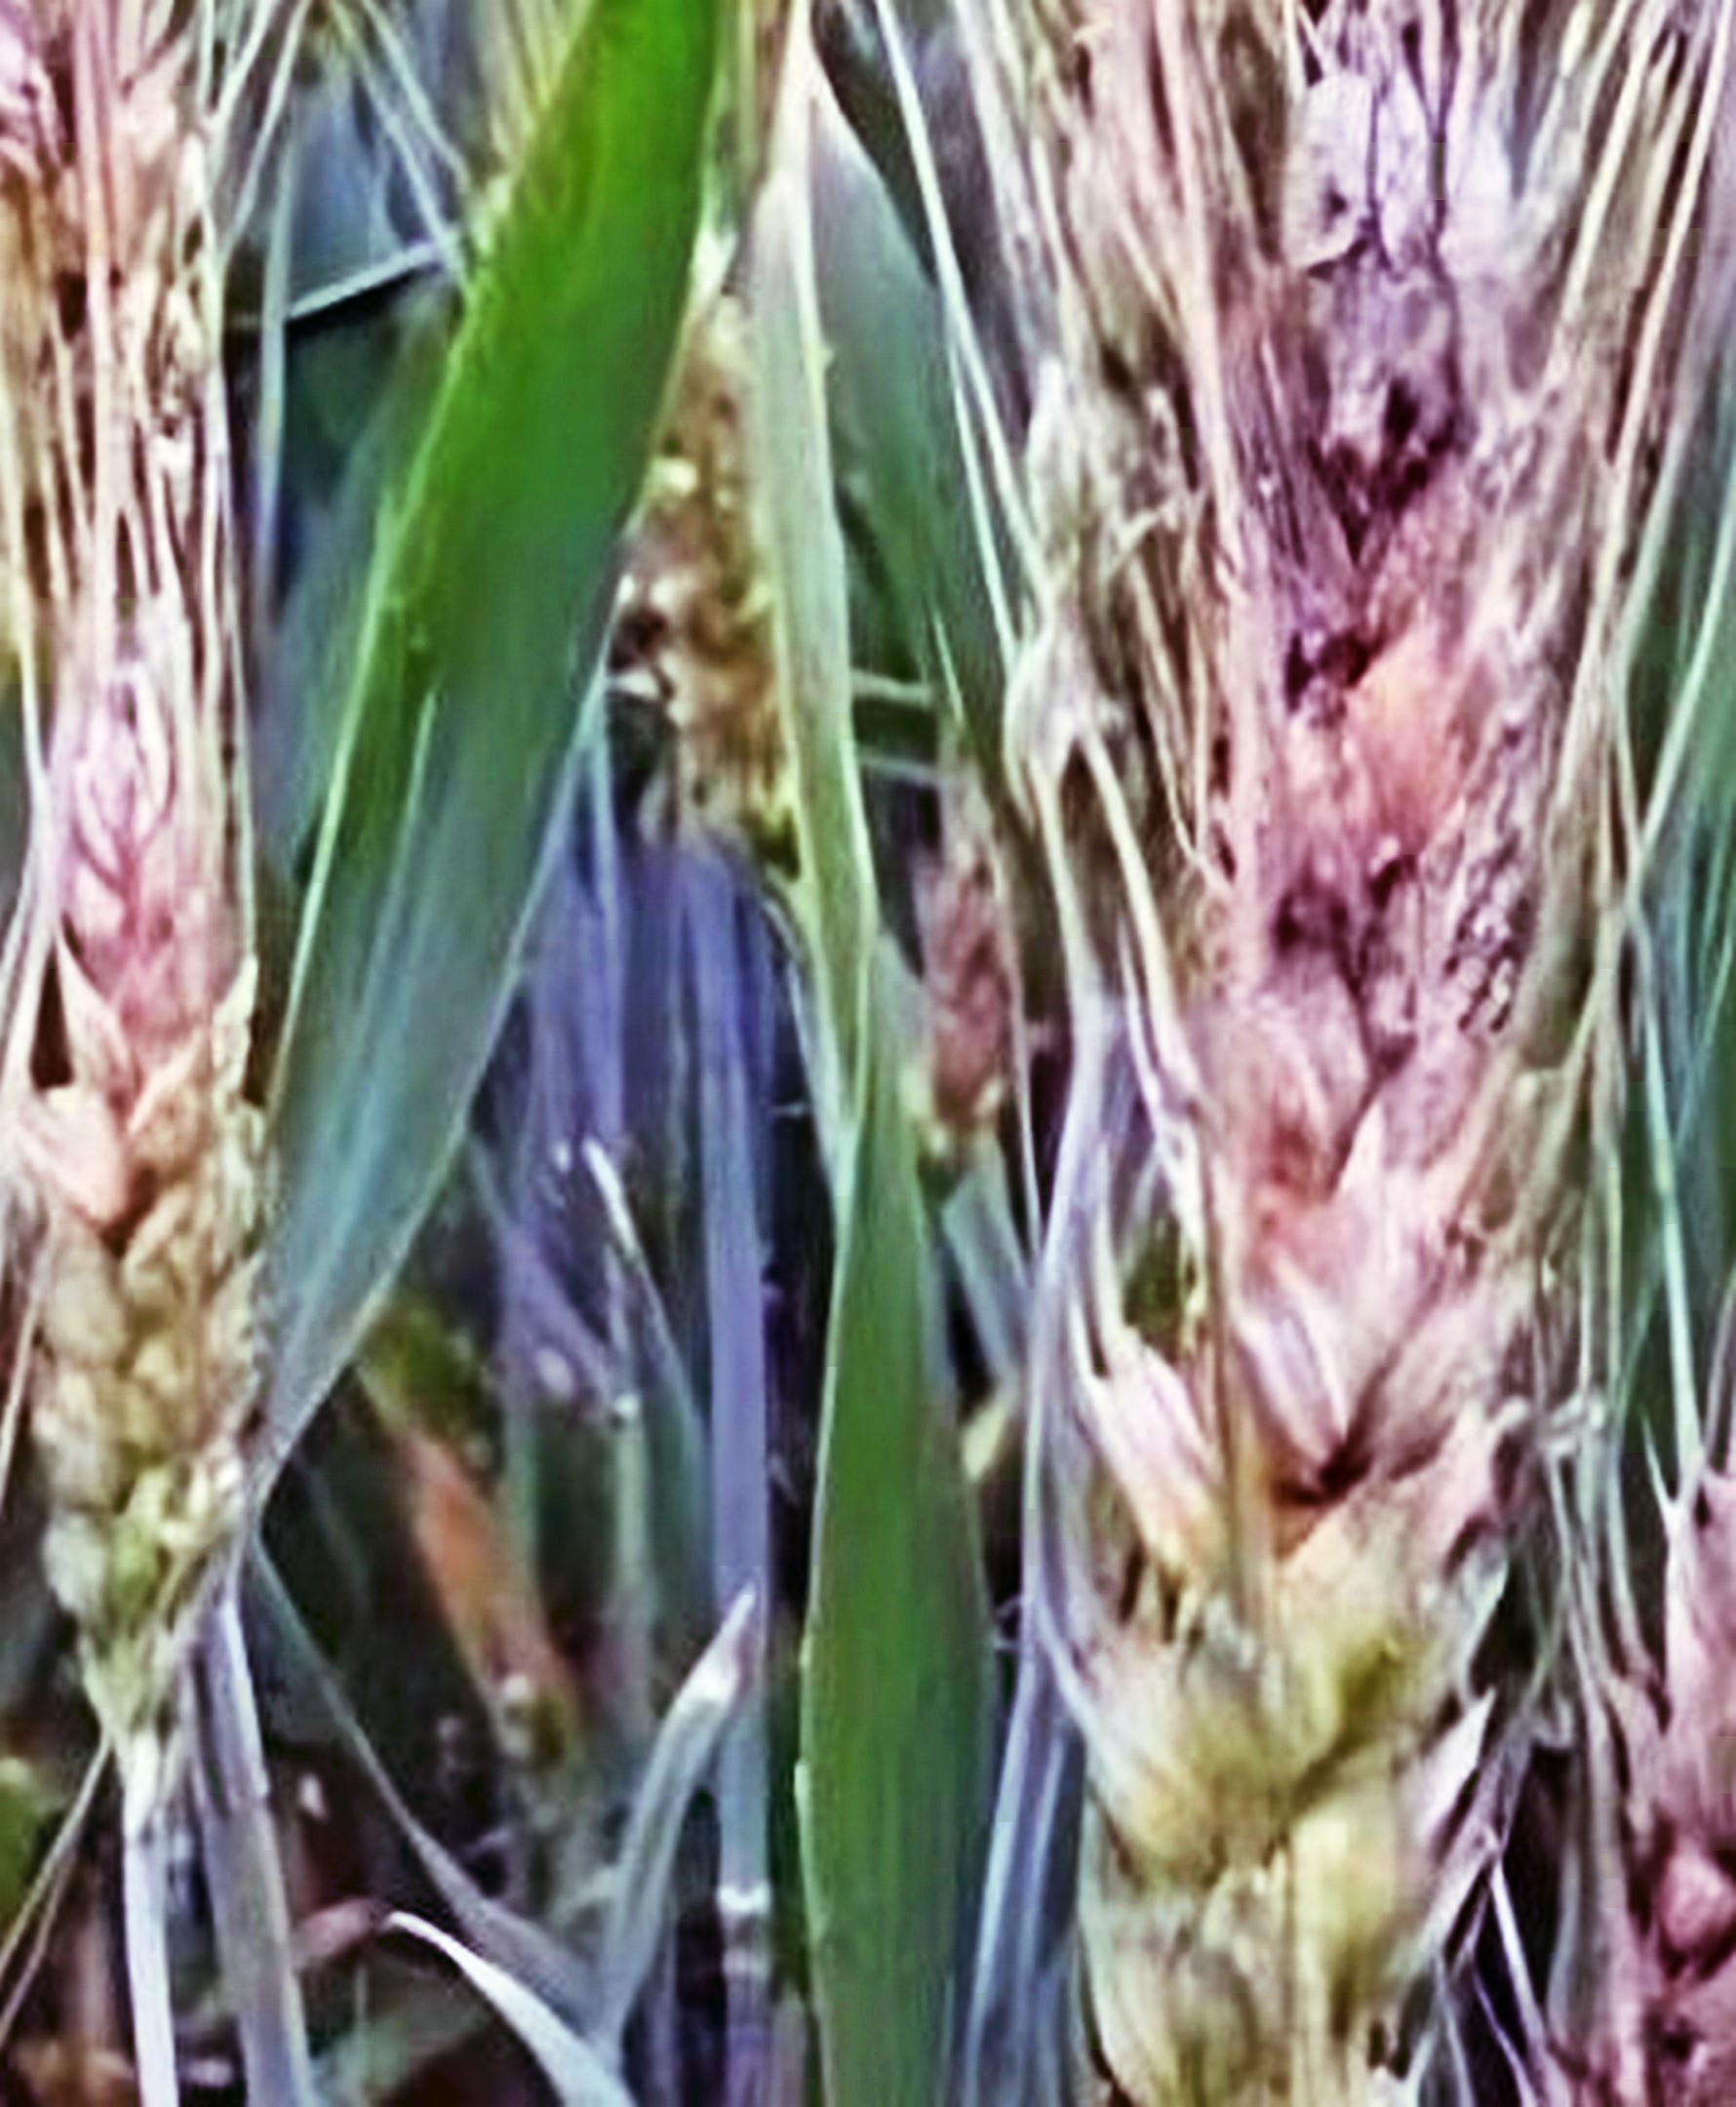Wheat scab: (1006, 108, 1561, 2033), (7, 672, 317, 1645)
